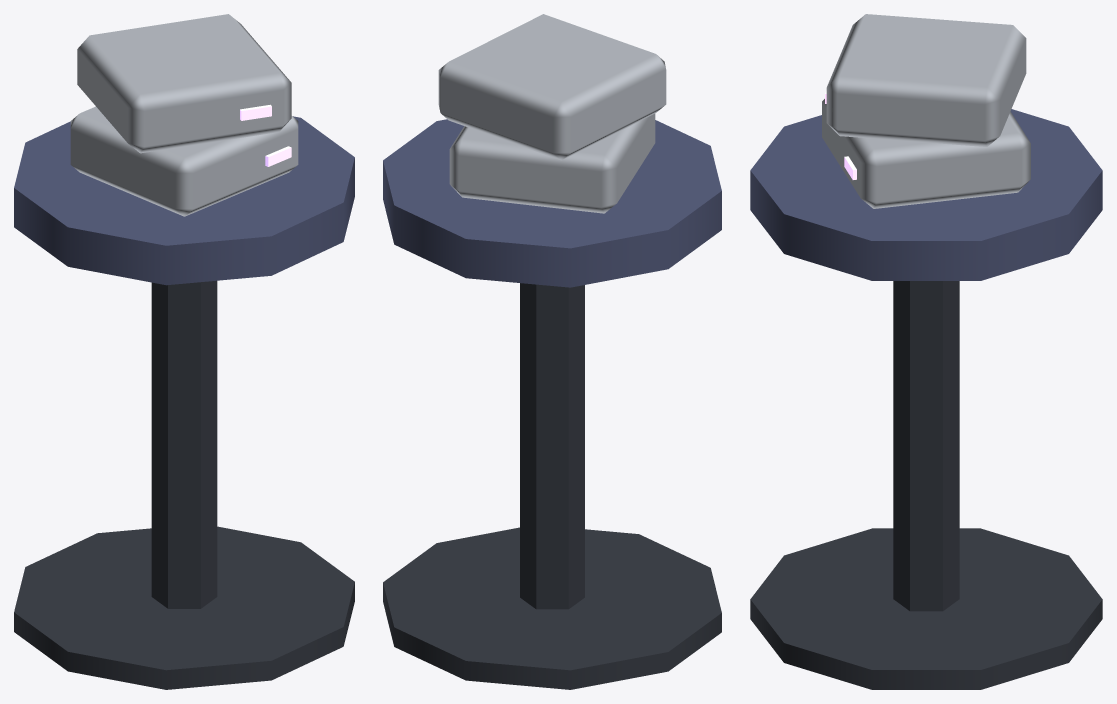
File: station_special_ausstattung_1_1.glb
The picture shows the model from 3 angles, left to right: view 1: azimuth 30°, elevation 25°; view 2: azimuth 150°, elevation 25°; view 3: azimuth 270°, elevation 25°; orthographic projection.
Visible parts, largest first — view 1: station_special_ausstattung_1_1; view 2: station_special_ausstattung_1_1; view 3: station_special_ausstattung_1_1.
Part boxes in pixels (x1,y1,x2,y2): station_special_ausstattung_1_1: (14,14,354,689); station_special_ausstattung_1_1: (383,14,721,689); station_special_ausstattung_1_1: (750,14,1102,689).
Size of the model in its own units: 0.3043 by 0.57 by 0.32.
